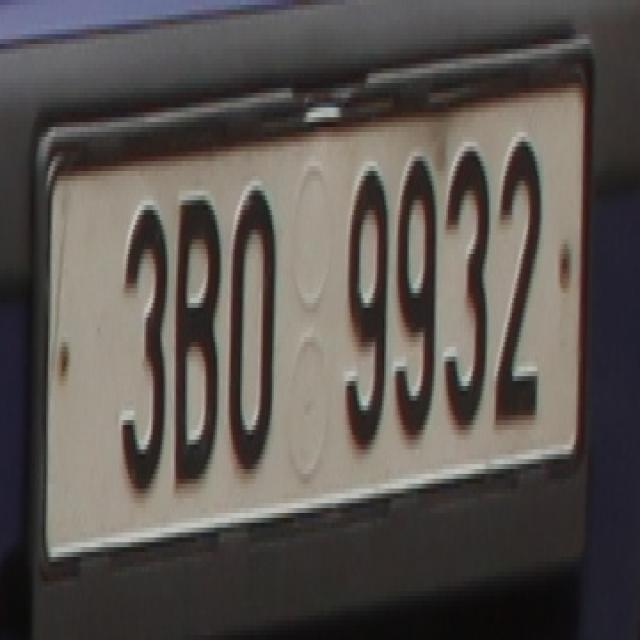0: (229, 180, 274, 464)
2: (492, 137, 546, 420)
3: (114, 206, 166, 498), (446, 142, 489, 434)
9: (338, 152, 390, 444), (392, 152, 438, 444)
B: (170, 196, 218, 498)
